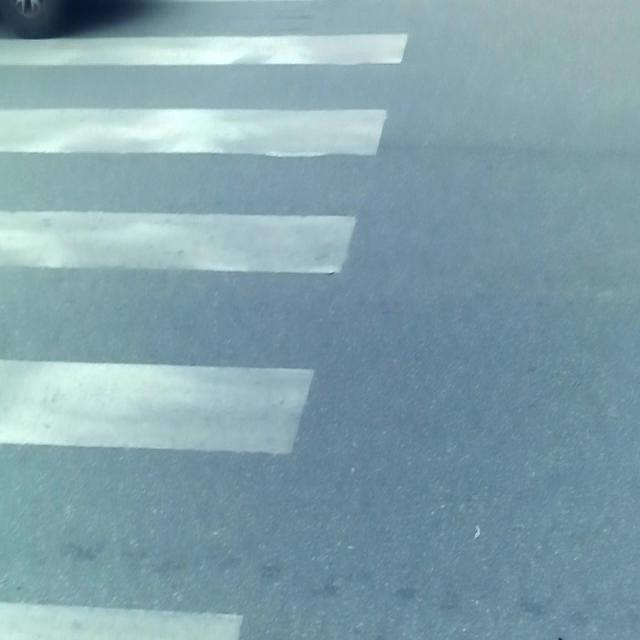crosswalk: (0, 0, 424, 640)
